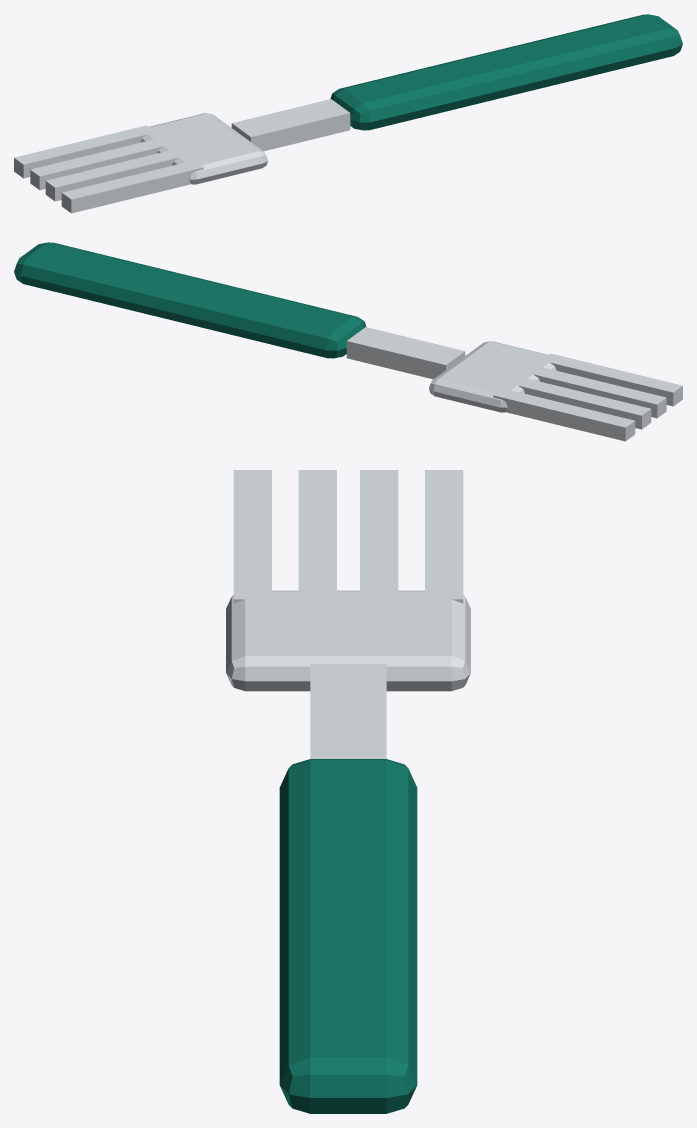
The model's file is cutlery_c.glb.
3 views of the same model, one above another, from view 1: azimuth 30°, elevation 25°; view 2: azimuth 150°, elevation 25°; view 3: azimuth 270°, elevation 25° (orthographic). The views are drawn at different scales.
Visible parts, largest first — view 1: body; view 2: body; view 3: body.
Part boxes in pixels (x1,y1,x2,y2): body: (14, 14, 682, 213); body: (14, 242, 682, 441); body: (226, 470, 470, 1113).
Size of the model in its own units: 0.19 by 0.008 by 0.032.
